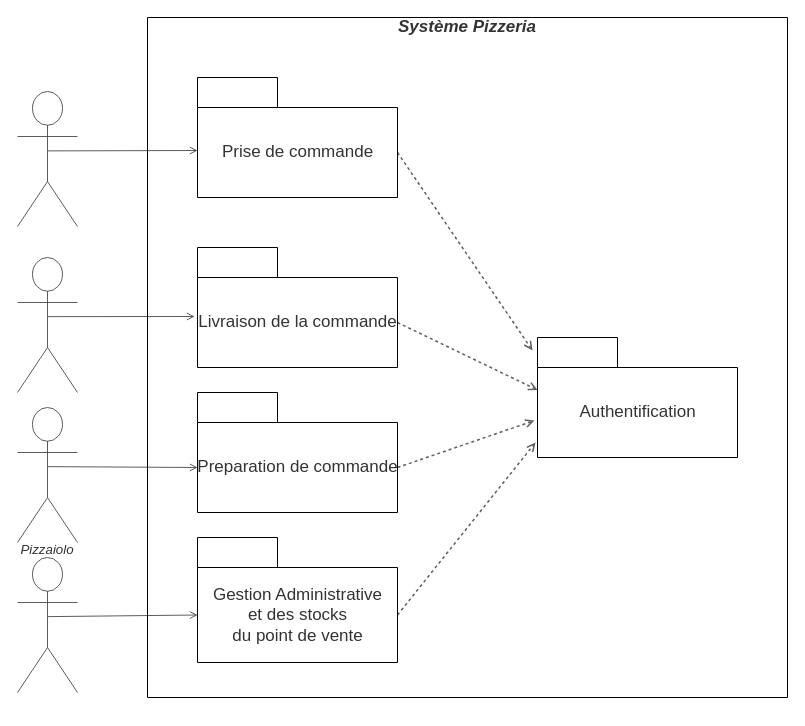
The diagram is 805 pixels wide and 726 high, and some of its shapes have lost their labels. Here are the shapes that lost their labels. From the top down, the centre of each, then its label:
At (47,158): "Client".
At (47,324): "Livreur".
At (47,624): "Responsable".
